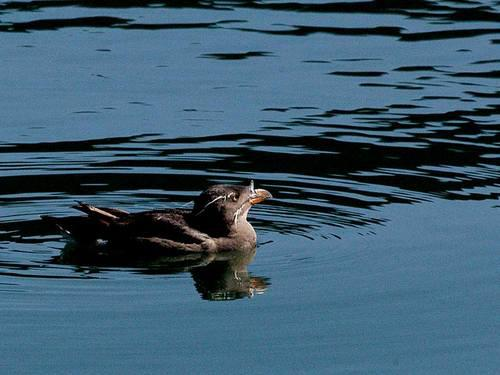008.Rhinoceros_Auklet: (57, 182, 272, 265)
